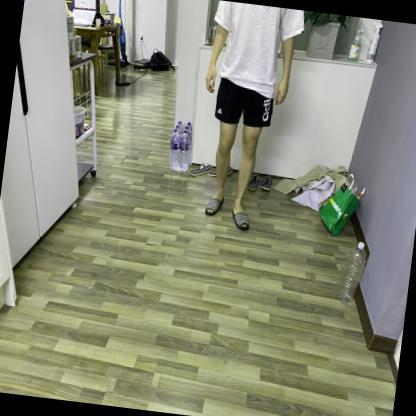no_safety-shoe: (225, 194, 254, 238), (199, 182, 227, 227)
